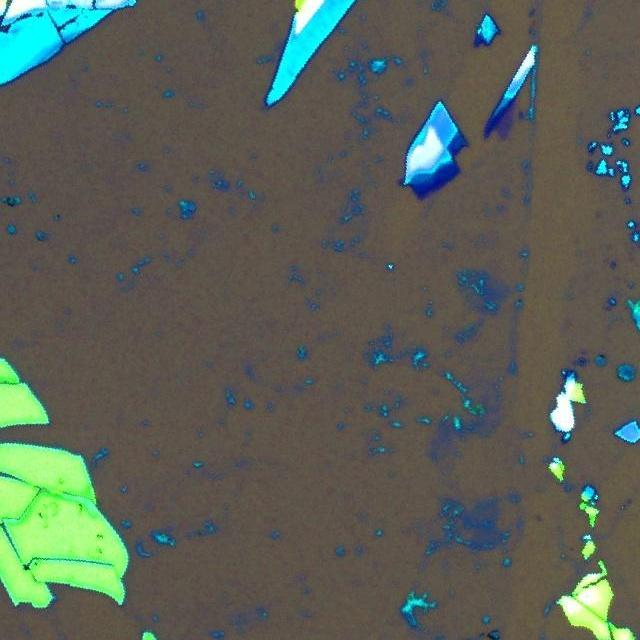monolayer-eWW4: (492, 98, 516, 140)
